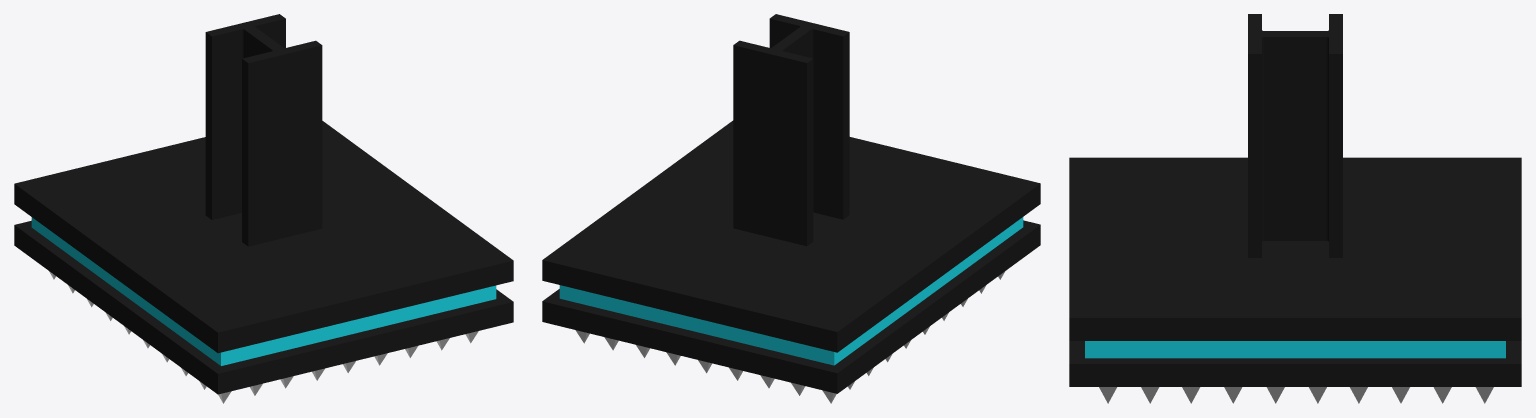
Rendered from Presse_Pic.FBX.
3 views of the same model, side by side, from view 1: azimuth 30°, elevation 25°; view 2: azimuth 150°, elevation 25°; view 3: azimuth 270°, elevation 25° (orthographic). The views are drawn at different scales.
Visible parts, largest first — view 1: Presse; view 2: Presse; view 3: Presse.
Boxes of the visible parts, x1,y1,x2,y2 form: Presse: (14, 14, 513, 403); Presse: (542, 14, 1040, 403); Presse: (1069, 14, 1521, 403).
Bounding box in the file's own units: 2 × 1.77 × 2.39.
